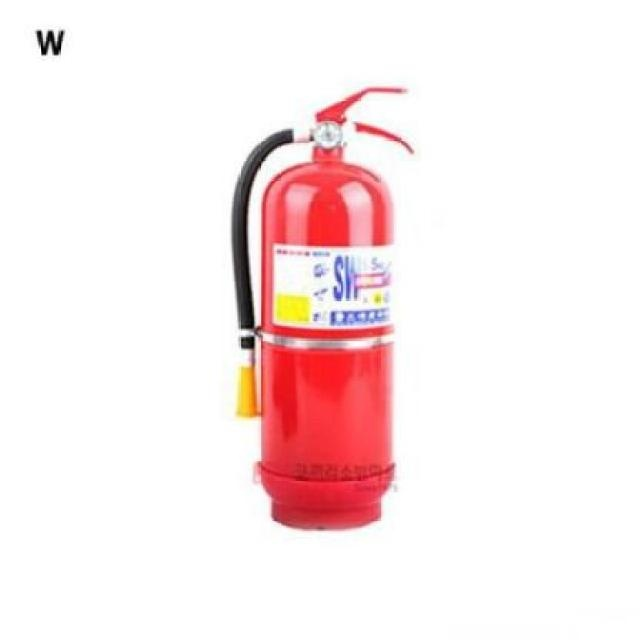fire extinguisher: (229, 87, 414, 531)
